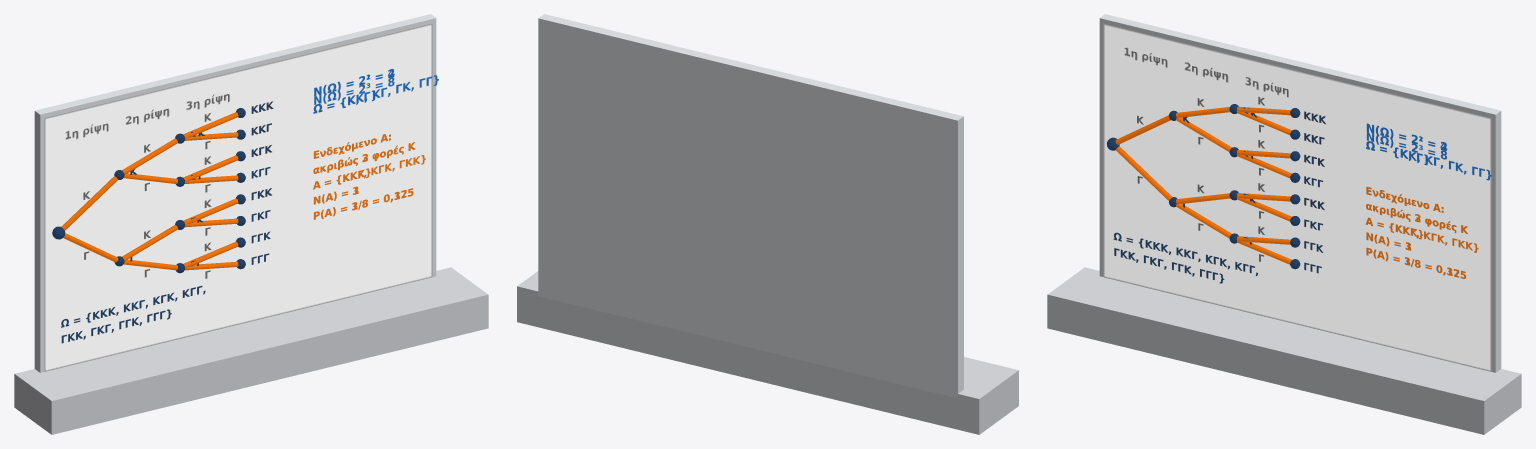
File: pithanotites-g-gymn.glb
The picture shows the model from 3 angles, left to right: view 1: azimuth 30°, elevation 25°; view 2: azimuth 150°, elevation 25°; view 3: azimuth 330°, elevation 25°; orthographic projection. The views are drawn at different scales.
Visible parts, largest first — view 1: pinakas, vasi, piso, endexomeno92, omega91, plaisio89, plaisio88; view 2: piso, vasi; view 3: pinakas, vasi, piso, endexomeno93, endexomeno92, omega91, plaisio89, plaisio88.
Part boxes in pixels (x1,y1,x2,y2): pinakas: (44, 23, 432, 371); vasi: (14, 267, 488, 434); piso: (34, 14, 436, 372); endexomeno92: (313, 134, 425, 219); omega91: (61, 286, 205, 343); plaisio89: (321, 69, 438, 107); plaisio88: (313, 69, 394, 113); piso: (538, 14, 963, 398); vasi: (517, 271, 1018, 434); pinakas: (1103, 23, 1491, 371); vasi: (1047, 267, 1521, 434); piso: (1099, 14, 1501, 372); endexomeno93: (1366, 188, 1467, 278); endexomeno92: (1366, 187, 1478, 278); omega91: (1113, 232, 1257, 283); plaisio89: (1366, 123, 1491, 180); plaisio88: (1366, 123, 1446, 165).
Size of the model in its own units: 0.2812 by 0.1797 by 0.0418.
44 materials, 39 textured.
